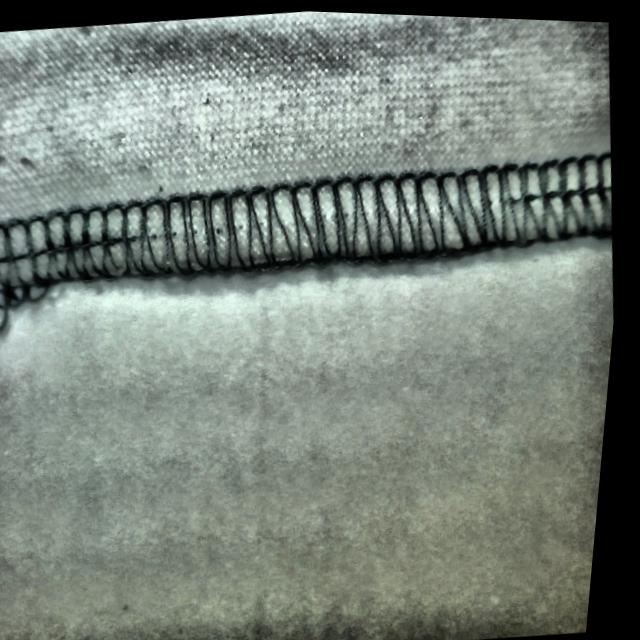Stitch: (0, 209, 66, 335)
